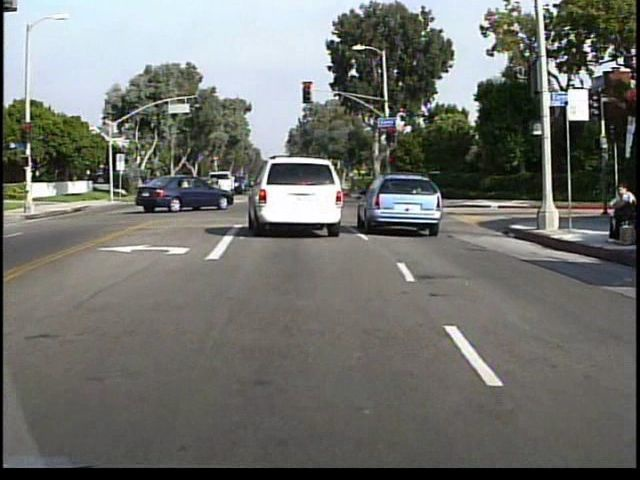person: (601, 179, 635, 246)
